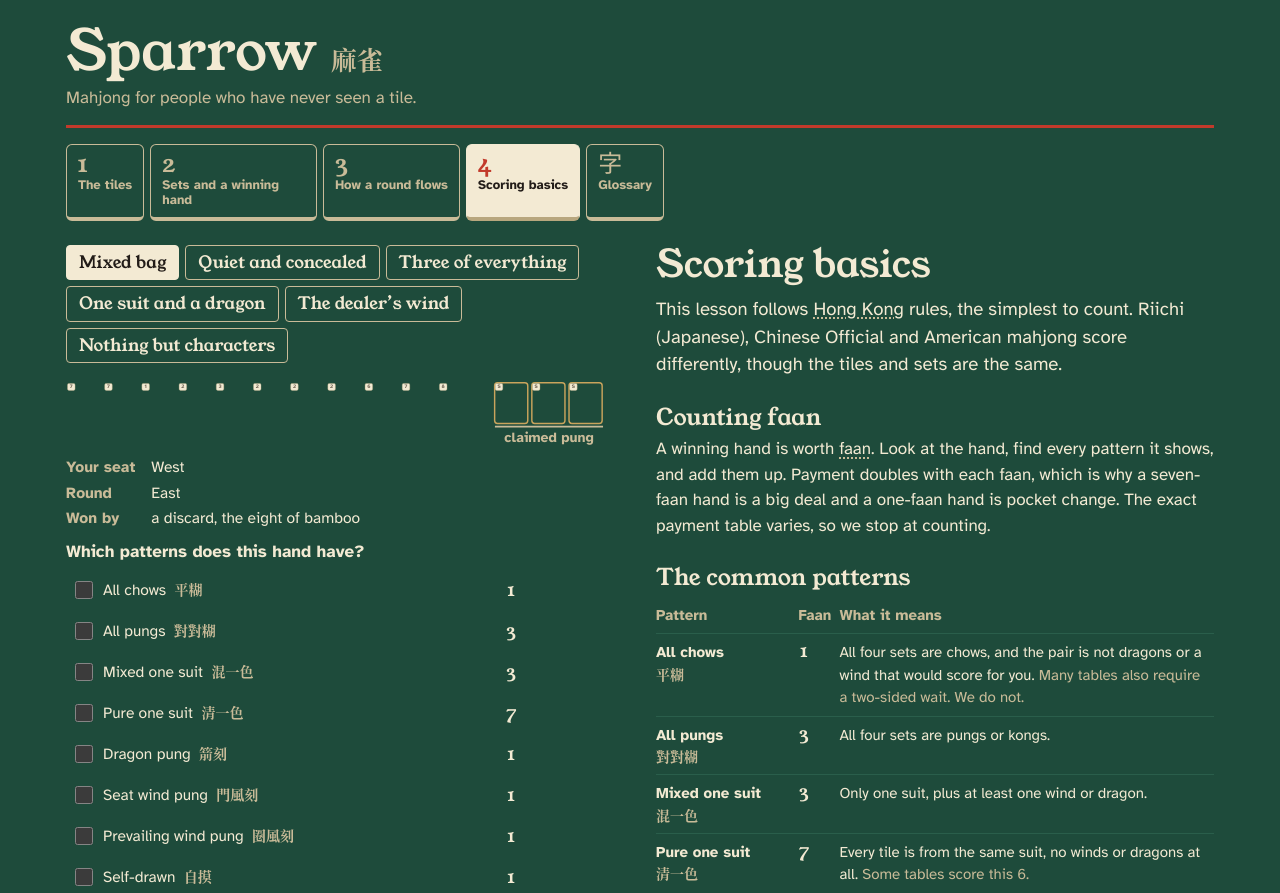
it: App › checks a faan count
The image size is (1280, 893).
Click the radio button labelled "Three of everything" at (482, 263), box [386,245,579,280]
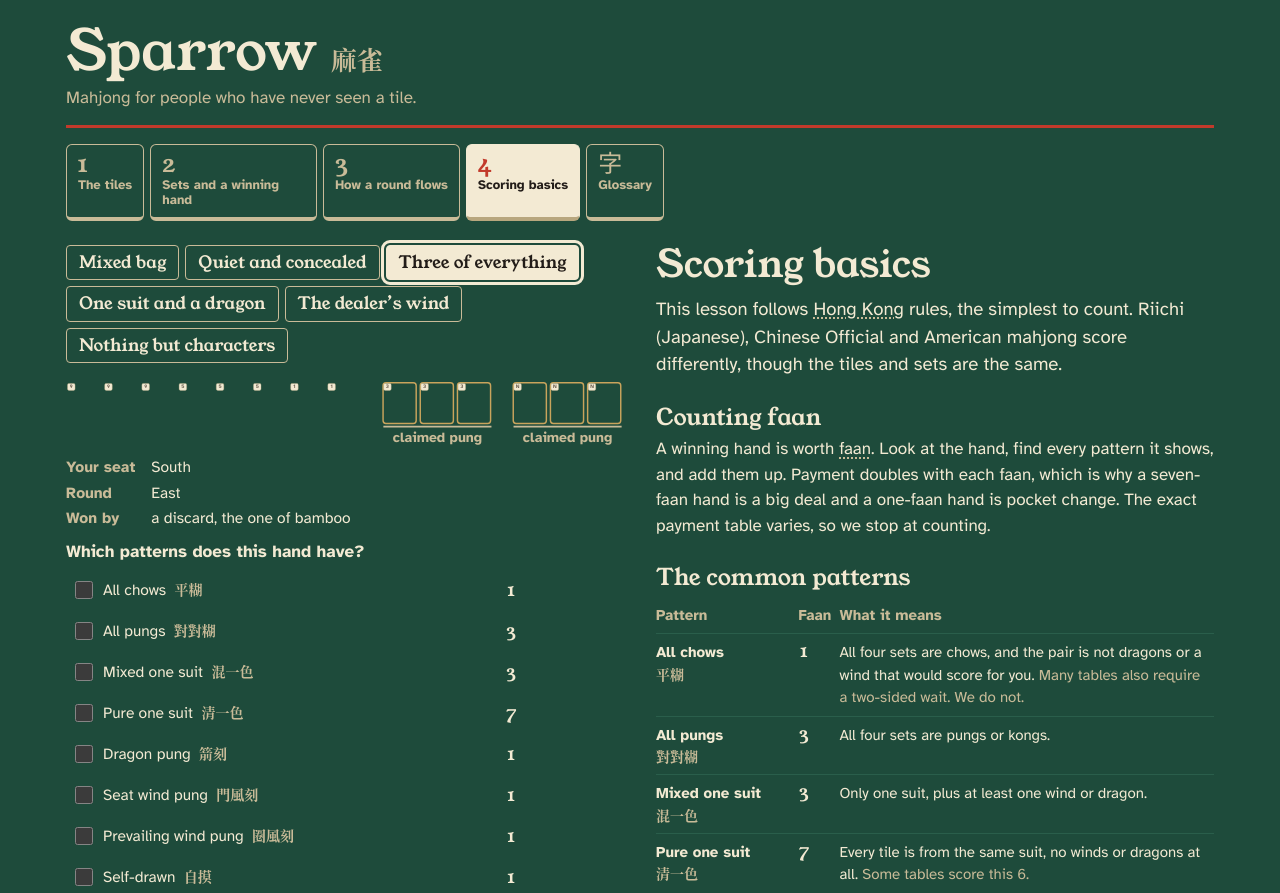
Click the checkbox labelled "All pungs 對對糊 3" at (84, 631), box [75,622,93,640]
(page scrolled)
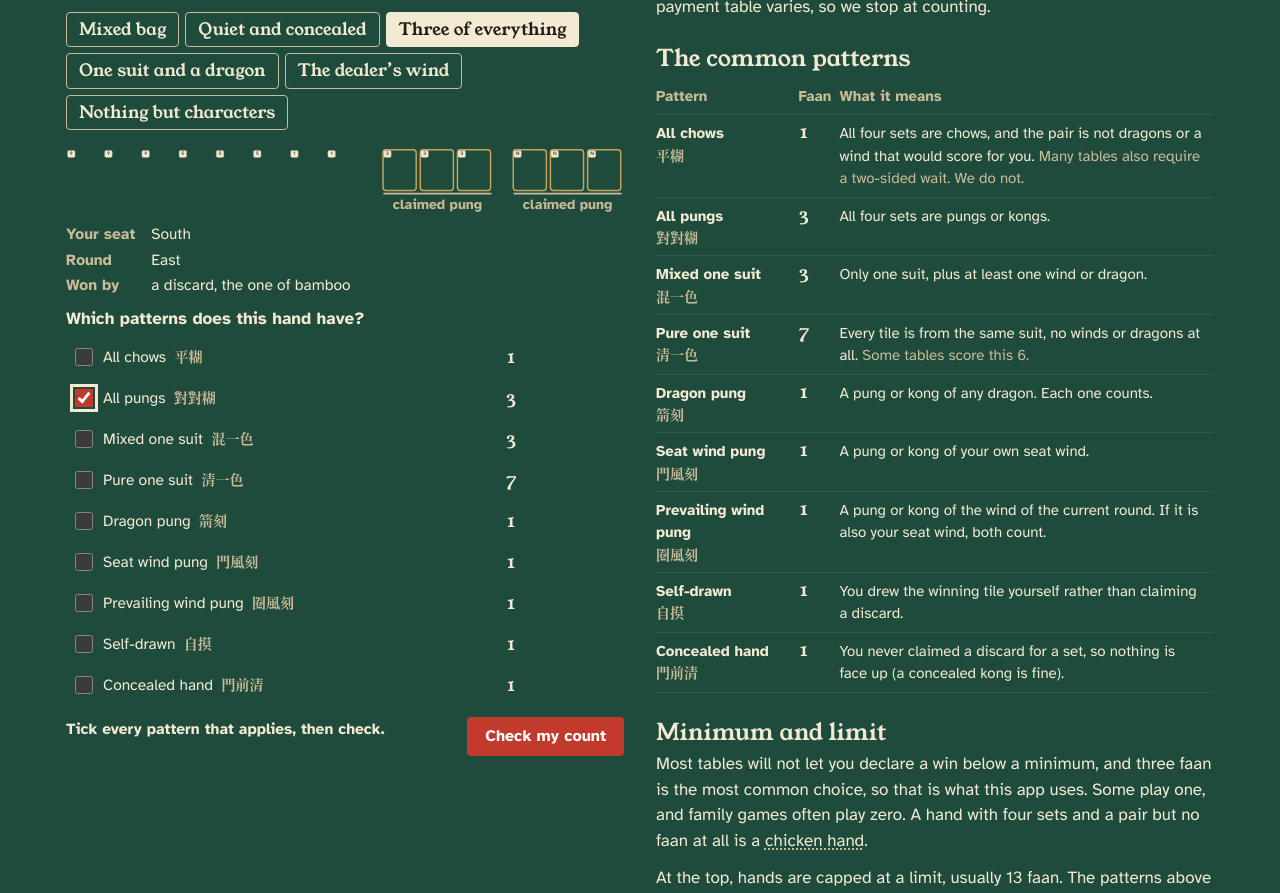
Click the button "Check my count" at (546, 736), box [467,717,624,756]
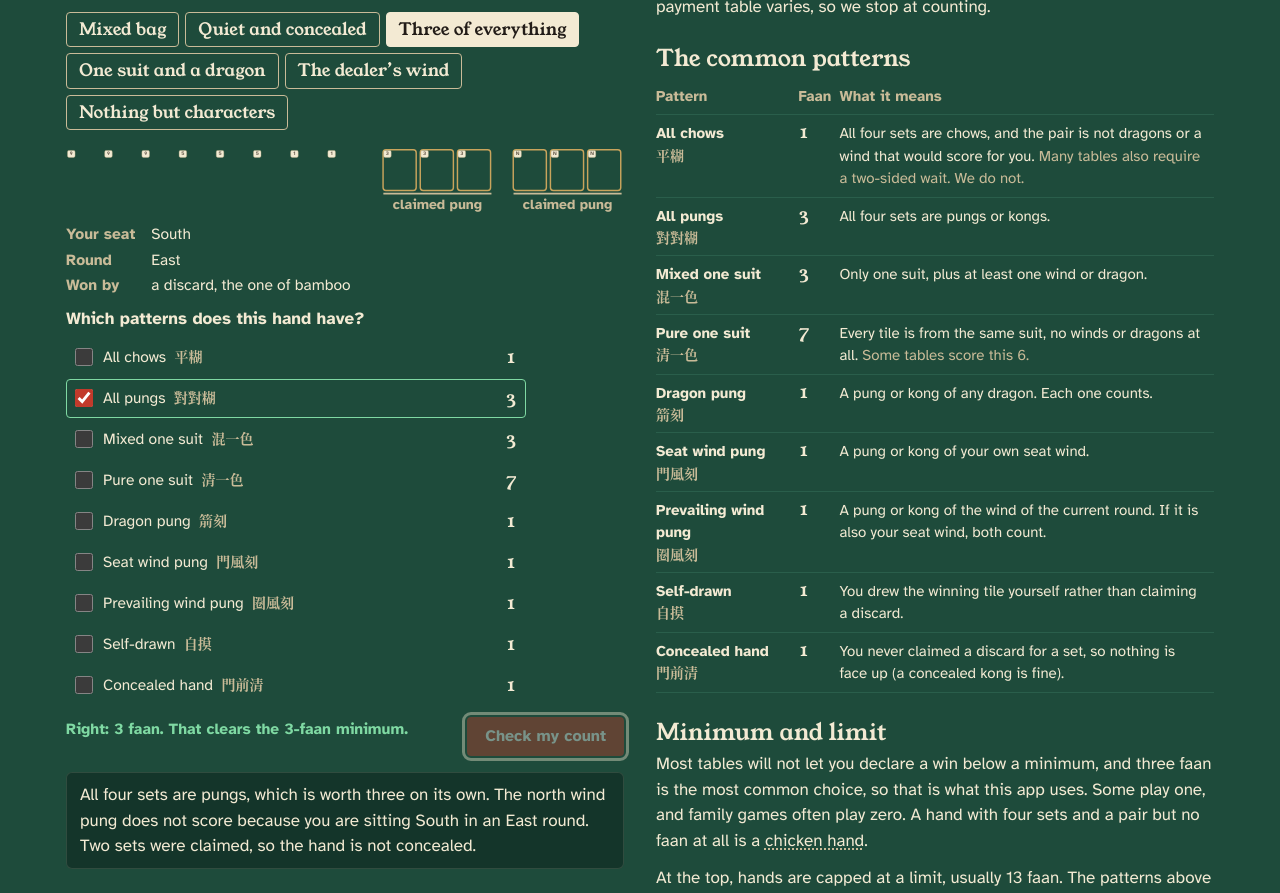
Check: the text "Right: 3 faan. That clears the 3-faan minimum." is shown, box [66,719,408,738]
